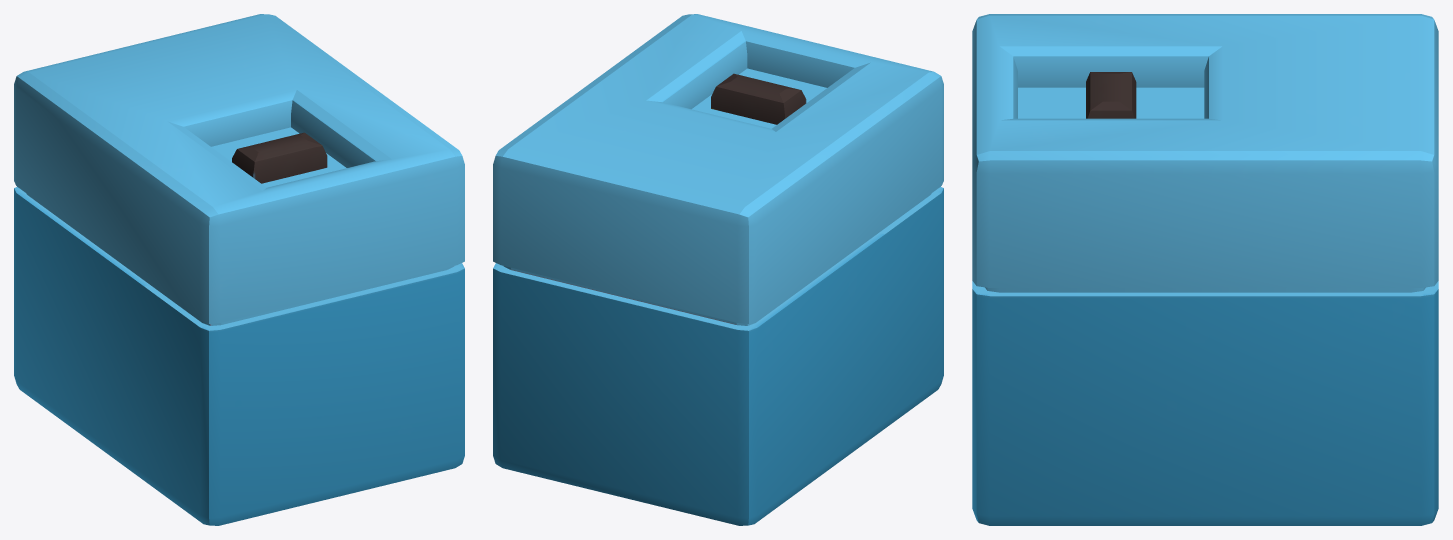
The model's file is Shelf Item (10).fbx.
3 renders of one model, left to right at view 1: azimuth 30°, elevation 25°; view 2: azimuth 150°, elevation 25°; view 3: azimuth 270°, elevation 25°, orthographic. The views are drawn at different scales.
Parts seen in each view (by area): view 1: Object128; view 2: Object128; view 3: Object128.
Part boxes in pixels (x1=…): Object128: x1=14, y1=14, x2=464, y2=525; Object128: x1=493, y1=14, x2=943, y2=525; Object128: x1=972, y1=14, x2=1438, y2=525.
Size of the model in its own units: 8.12 by 9.41 by 10.65.
